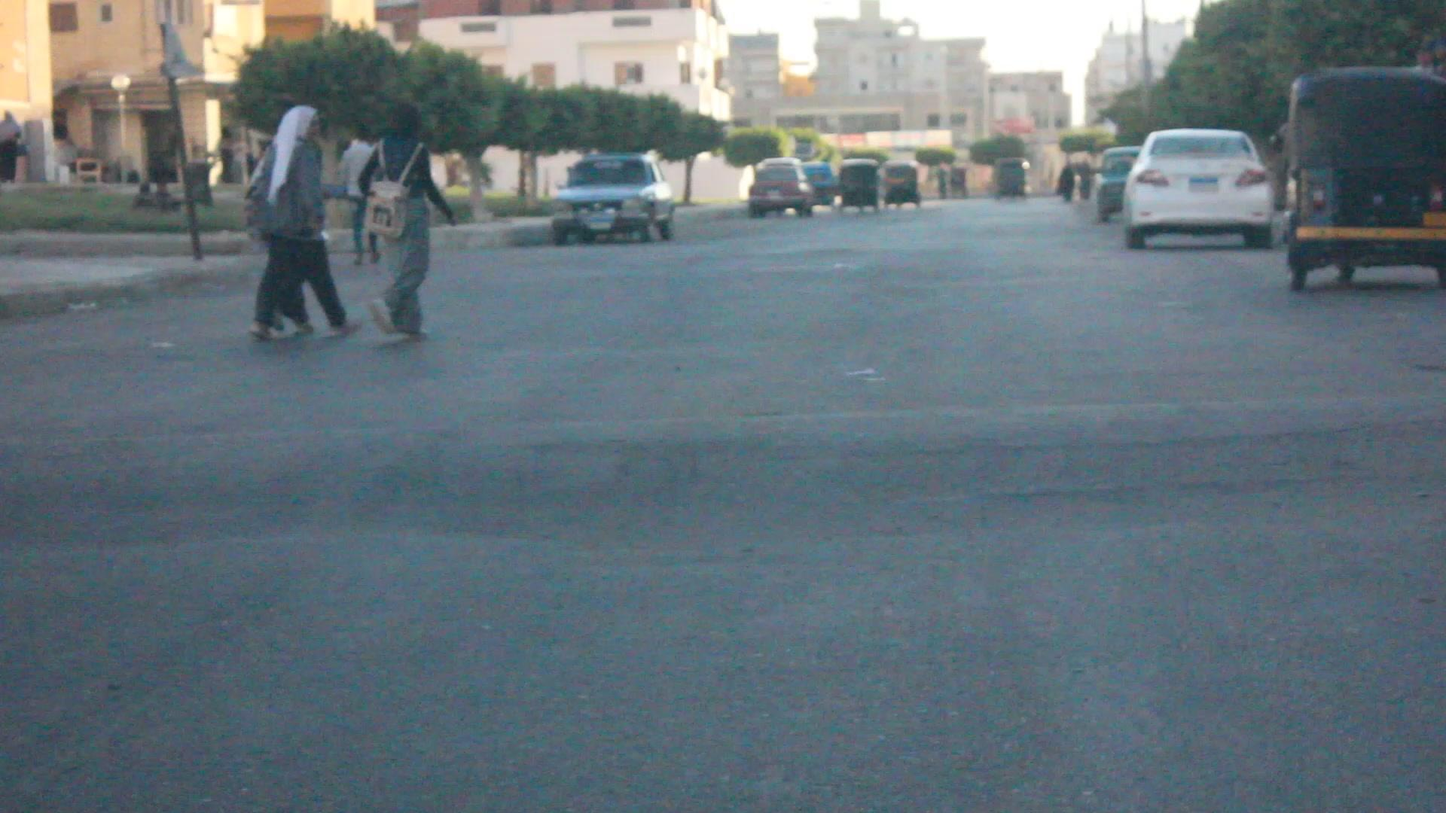Bump: (6, 386, 1446, 527)
